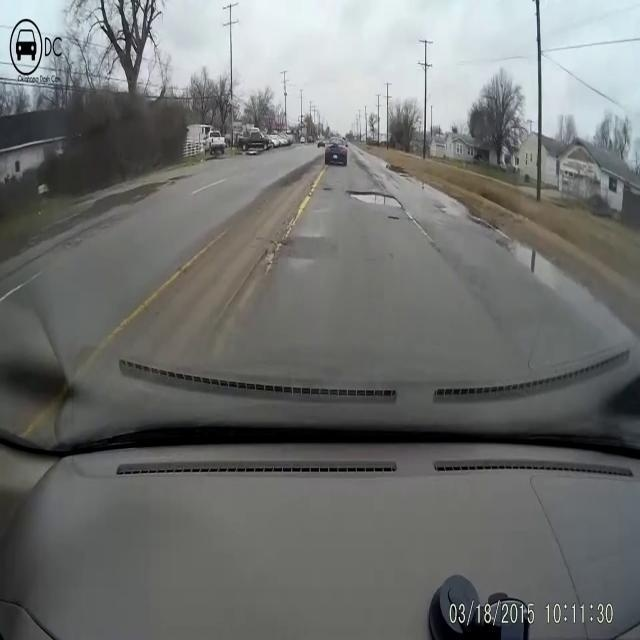pothole: (346, 174, 410, 217), (256, 219, 292, 285), (303, 181, 337, 205)
